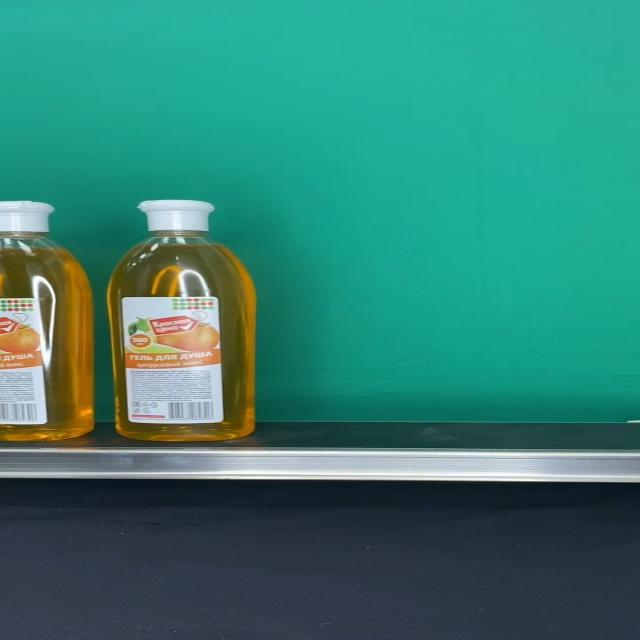Bottle: (106, 200, 256, 441)
Cap: (136, 200, 215, 232)
